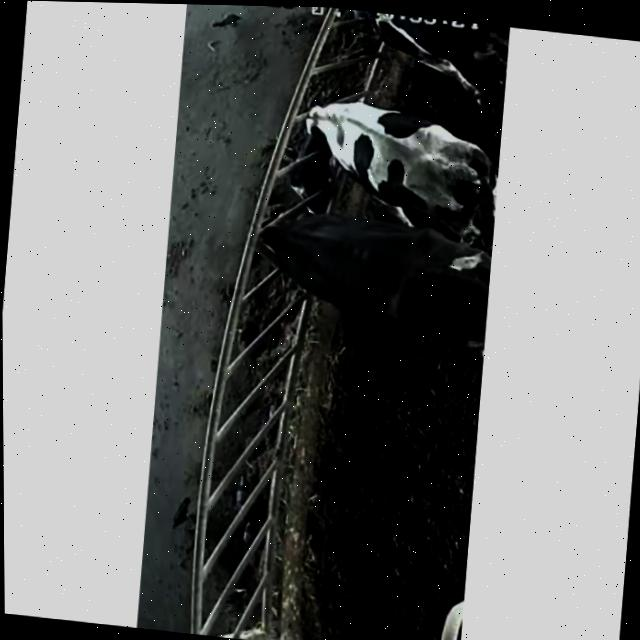eat: (223, 77, 442, 203), (215, 179, 391, 314), (300, 7, 445, 45)
